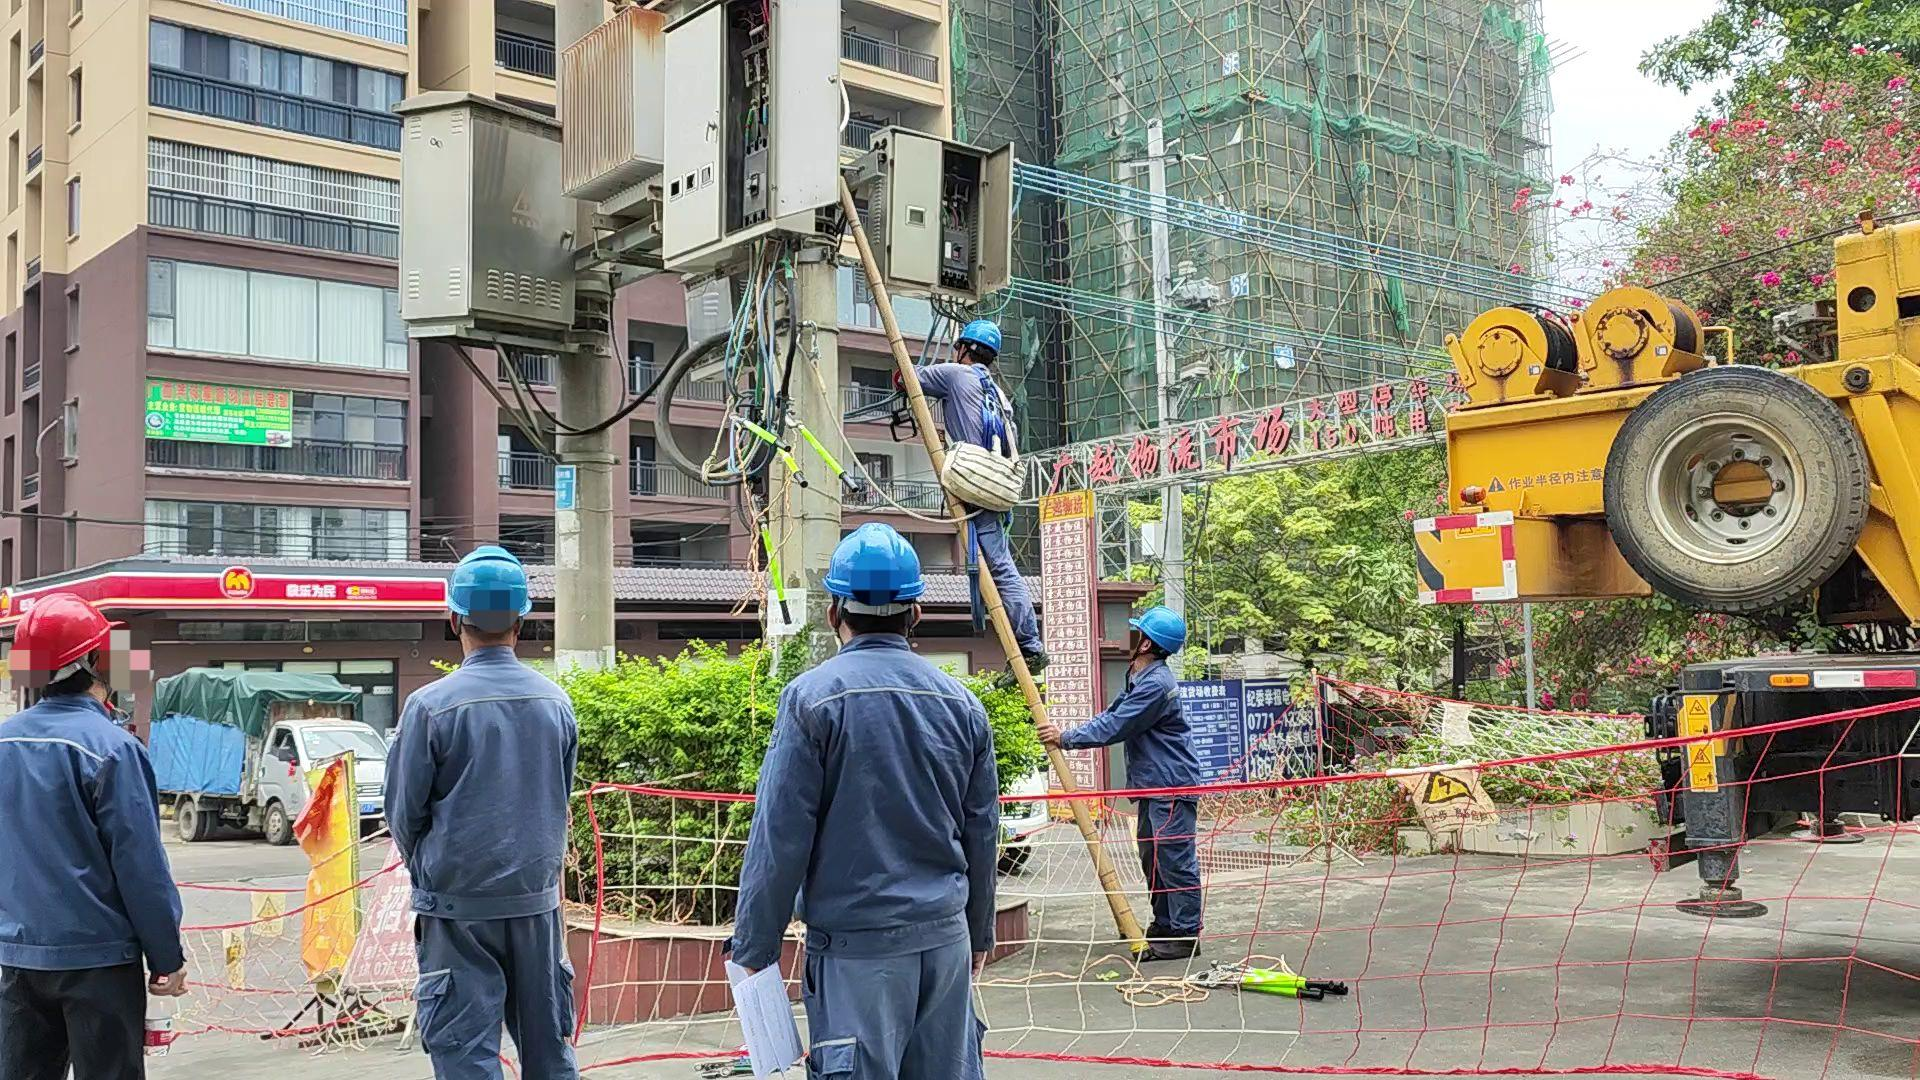halt: (15, 603, 133, 702), (825, 522, 928, 629), (448, 546, 533, 636), (1126, 612, 1189, 665), (956, 323, 1005, 367)
